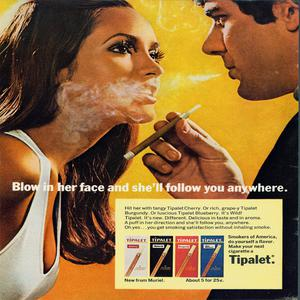cigarette: (124, 103, 203, 158)
